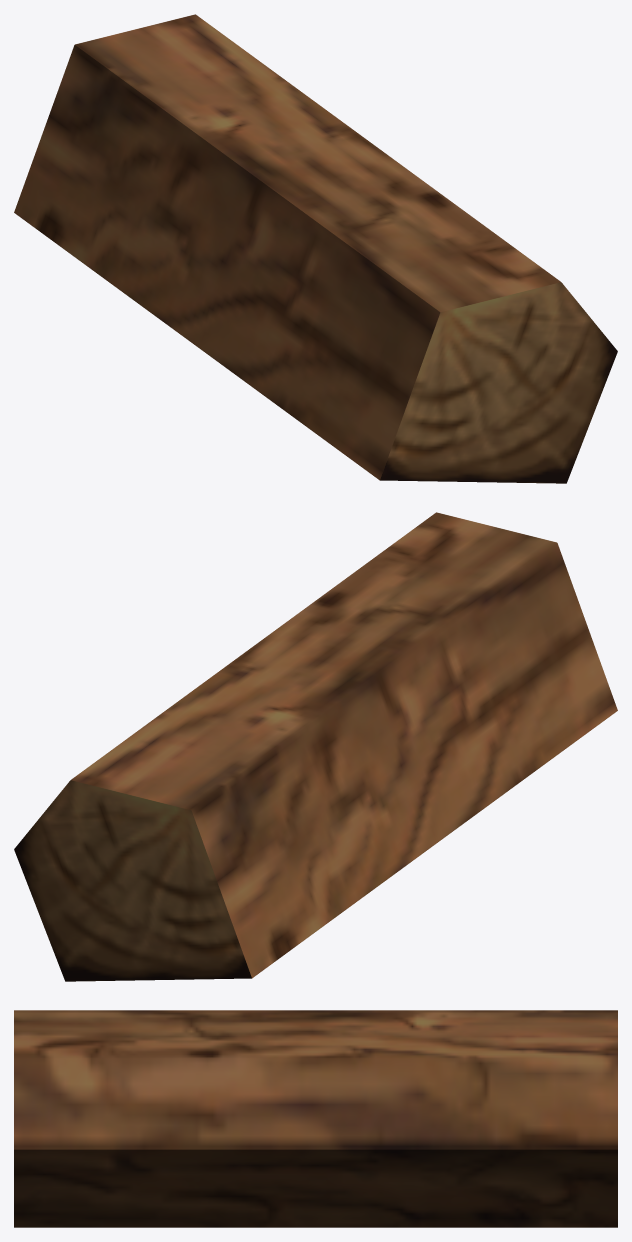
File: fanasty_mod_log01.fbx
3 renders of one model, top to bottom at view 1: azimuth 30°, elevation 25°; view 2: azimuth 150°, elevation 25°; view 3: azimuth 270°, elevation 25°, orthographic. The views are drawn at different scales.
Parts seen in each view (by area): view 1: log_01; view 2: log_01; view 3: log_01.
Part boxes in pixels (x1=…): log_01: x1=14, y1=14, x2=617, y2=483; log_01: x1=14, y1=512, x2=617, y2=981; log_01: x1=14, y1=1010, x2=617, y2=1227.
Bounding box in the file's own units: 0.3453 × 0.281 × 0.9189.
